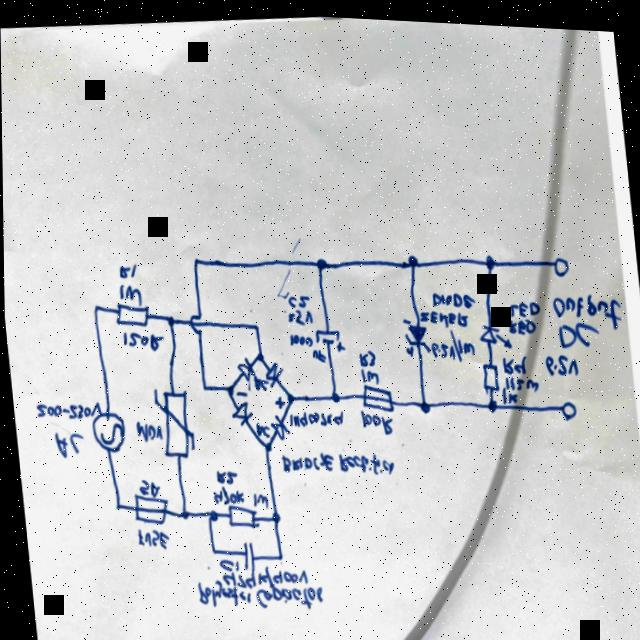capacitor: (312, 322, 345, 352), (238, 537, 253, 571)
crossover: (187, 308, 203, 334)
diode: (399, 311, 429, 354), (476, 315, 510, 346), (267, 408, 289, 440), (227, 396, 251, 425), (262, 355, 283, 386), (233, 352, 253, 379)
junction: (482, 247, 494, 267), (416, 392, 428, 410), (484, 392, 496, 409), (327, 385, 339, 401), (314, 252, 325, 269), (405, 247, 416, 264), (204, 505, 215, 520), (267, 506, 278, 521), (260, 435, 271, 450), (221, 379, 232, 394), (251, 346, 262, 361), (283, 387, 294, 402), (207, 541, 216, 555), (198, 377, 207, 391), (164, 312, 173, 325), (177, 504, 186, 517), (272, 547, 281, 560), (188, 252, 197, 265), (249, 317, 258, 330), (89, 300, 99, 311), (111, 498, 120, 509)
resistor: (110, 297, 149, 328), (224, 499, 256, 528), (478, 356, 498, 390)
source: (87, 408, 125, 452)
terminal: (555, 390, 576, 415), (548, 247, 568, 271)
text: (191, 545, 321, 616), (278, 440, 393, 480), (549, 282, 621, 328), (415, 281, 477, 326), (33, 395, 100, 423), (427, 321, 474, 359), (503, 290, 540, 331), (554, 312, 599, 345), (285, 402, 342, 428), (50, 424, 84, 461), (541, 344, 578, 372), (120, 328, 163, 352), (358, 402, 391, 432), (133, 523, 167, 551), (116, 278, 141, 307), (133, 418, 161, 443), (501, 367, 537, 386), (210, 482, 241, 504), (285, 303, 311, 324), (115, 258, 140, 279), (135, 476, 158, 497), (500, 349, 524, 369), (212, 465, 236, 484), (354, 344, 375, 365), (287, 328, 311, 345), (356, 362, 377, 381), (286, 290, 308, 307), (498, 381, 516, 400), (250, 370, 266, 390), (251, 488, 266, 507), (253, 418, 269, 434), (309, 342, 323, 360), (273, 393, 282, 407), (233, 386, 245, 395)
